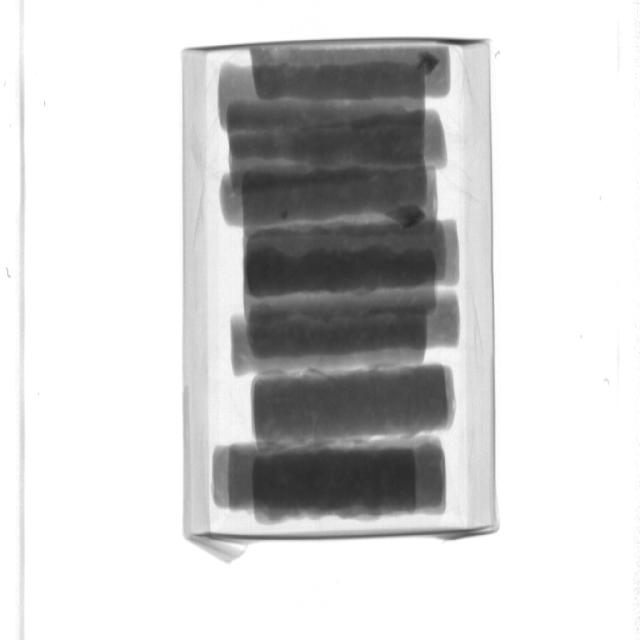ym: (388, 202, 427, 227), (417, 54, 441, 72), (282, 211, 289, 220)
